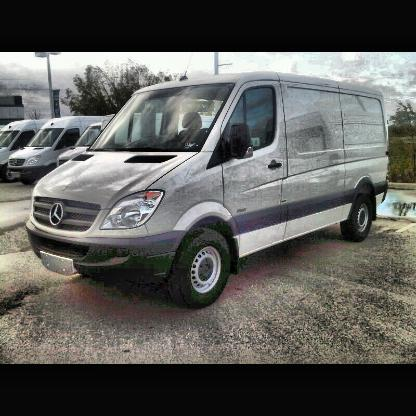Mercedes-Benz Sprinter Van 2012: (27, 71, 392, 313)
